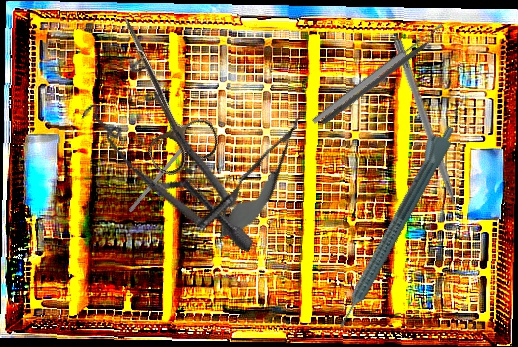Chopper: (127, 127, 206, 217)
Handpiece: (326, 119, 459, 331)
Iris Scissors: (90, 3, 225, 181)
Micro Scissor: (204, 96, 323, 254)
Pusher: (391, 38, 467, 231), (319, 24, 452, 128)
Speculum: (58, 46, 301, 253)
Surgical Spoon: (309, 20, 447, 127)
